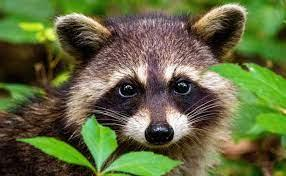raccoon: (0, 0, 264, 176)
